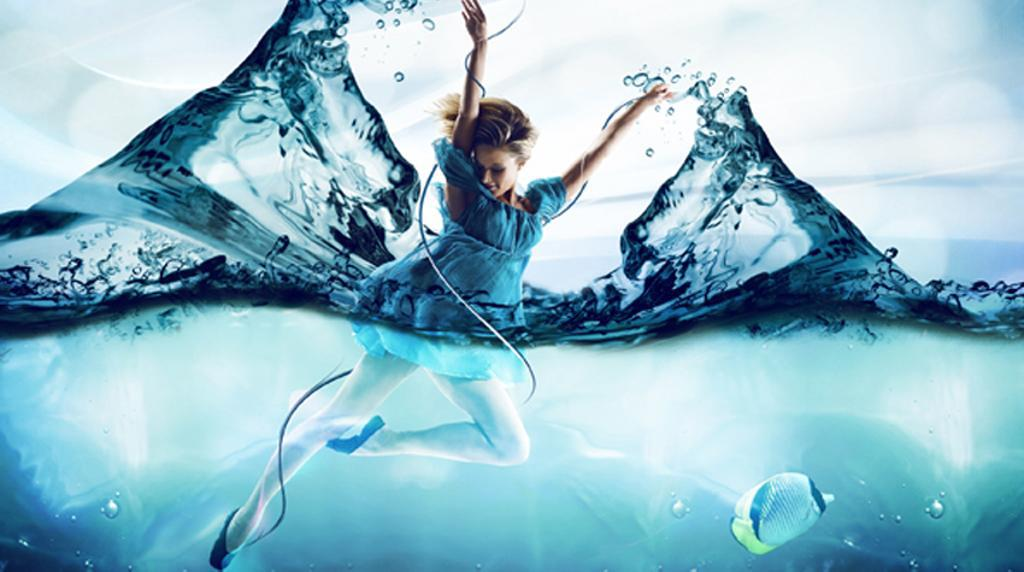face: (475, 147, 518, 199)
